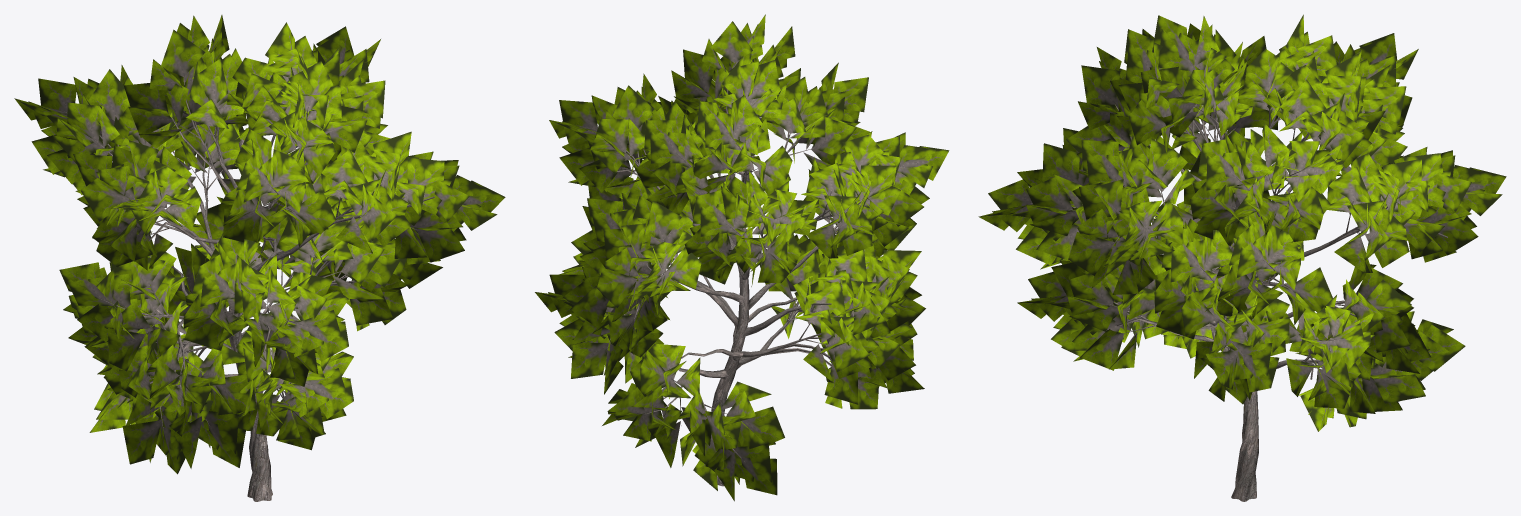
The model's file is Oak Tree.fbx.
3 views of the same model, side by side, from view 1: azimuth 30°, elevation 25°; view 2: azimuth 150°, elevation 25°; view 3: azimuth 270°, elevation 25° (orthographic). The views are drawn at different scales.
Visible parts, largest first — view 1: Tree_1, Tree_0; view 2: Tree_1, Tree_0; view 3: Tree_1, Tree_0.
Part boxes in pixels (x1=…): Tree_1: x1=14, y1=15, x2=505, y2=474; Tree_0: x1=64, y1=77, x2=434, y2=501; Tree_1: x1=535, y1=14, x2=949, y2=501; Tree_0: x1=592, y1=63, x2=903, y2=486; Tree_1: x1=978, y1=14, x2=1506, y2=431; Tree_0: x1=1031, y1=57, x2=1447, y2=501.
Bounding box in the file's own units: 319 × 389 × 385.
Materials: 2 (2 with a texture image).
